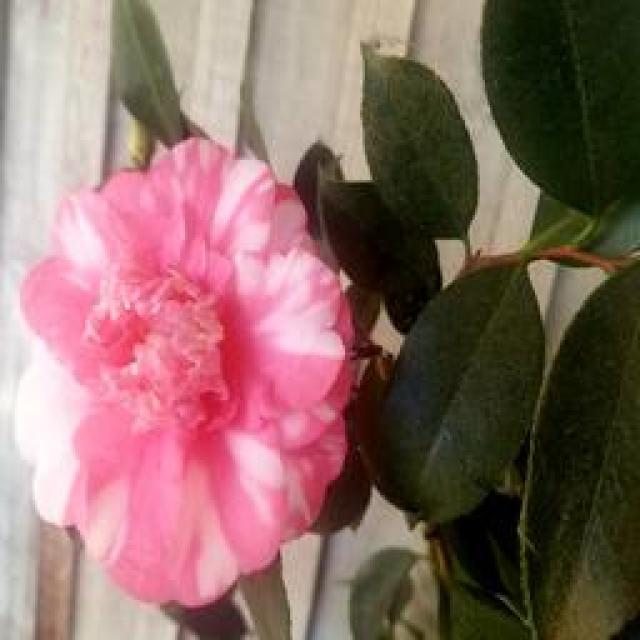carnation: (0, 148, 390, 610)
